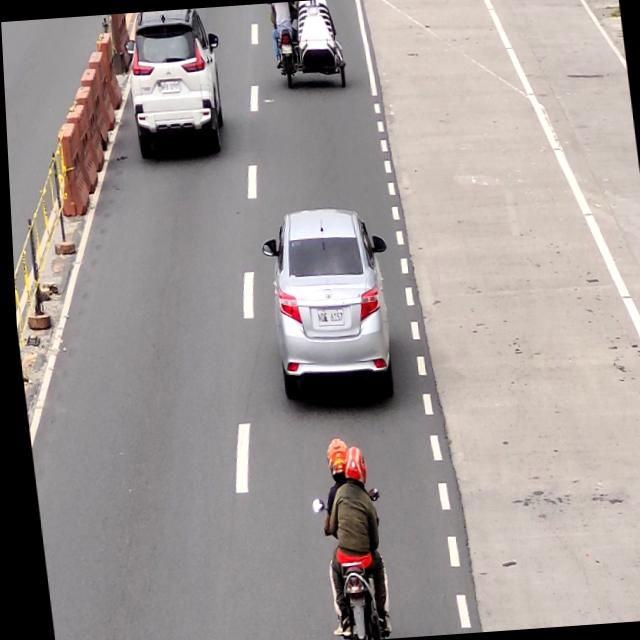Car: (255, 202, 398, 406), (119, 8, 224, 158)
License-Plate: (311, 306, 343, 329), (158, 78, 181, 94)
Motorcycle: (303, 439, 391, 640)
Tricycle: (263, 0, 350, 94)
